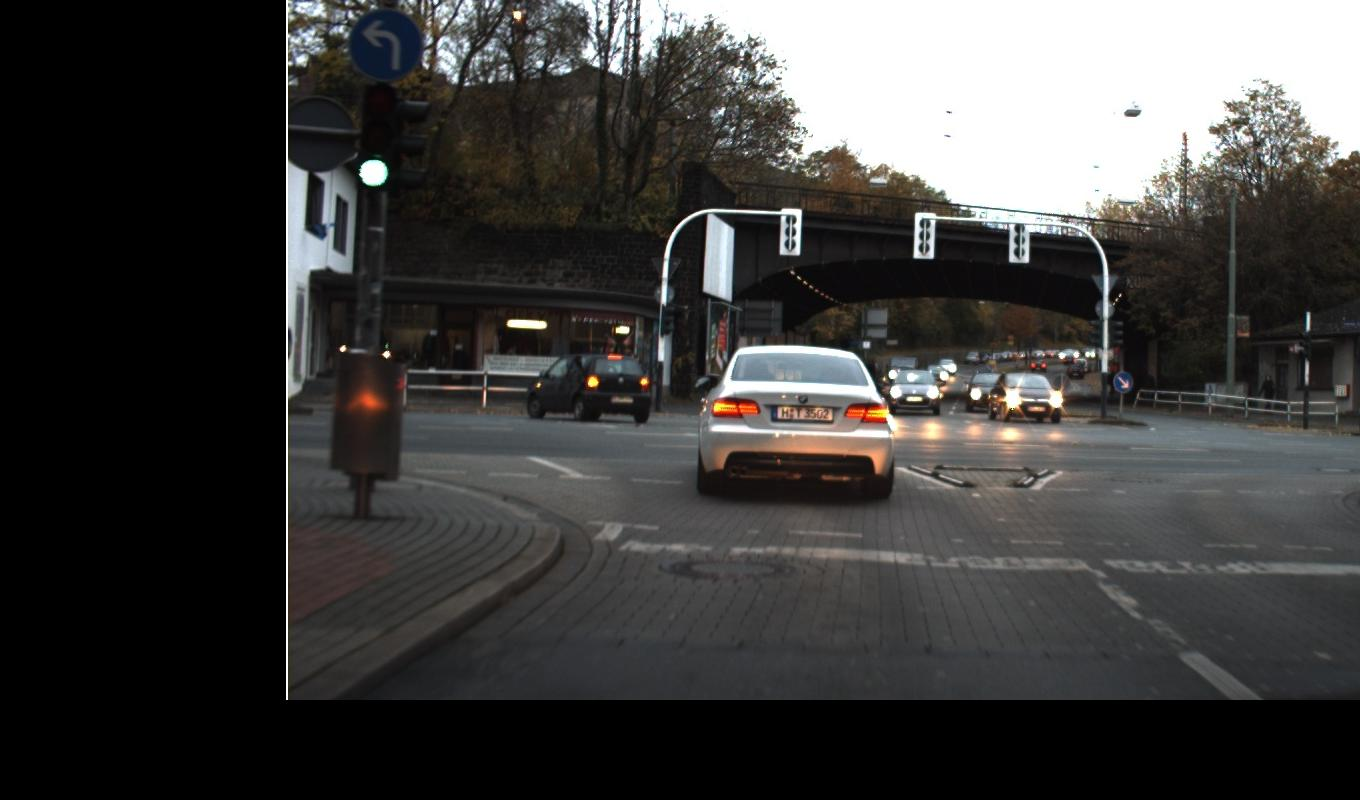go left: (347, 5, 1133, 393)
